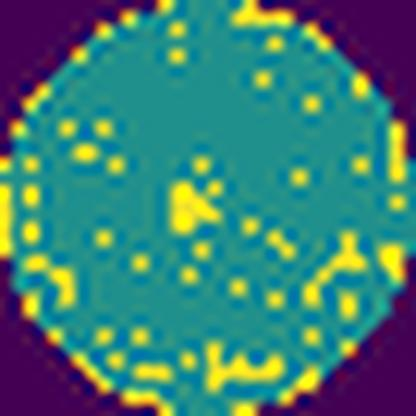Center: (163, 168, 225, 238)
